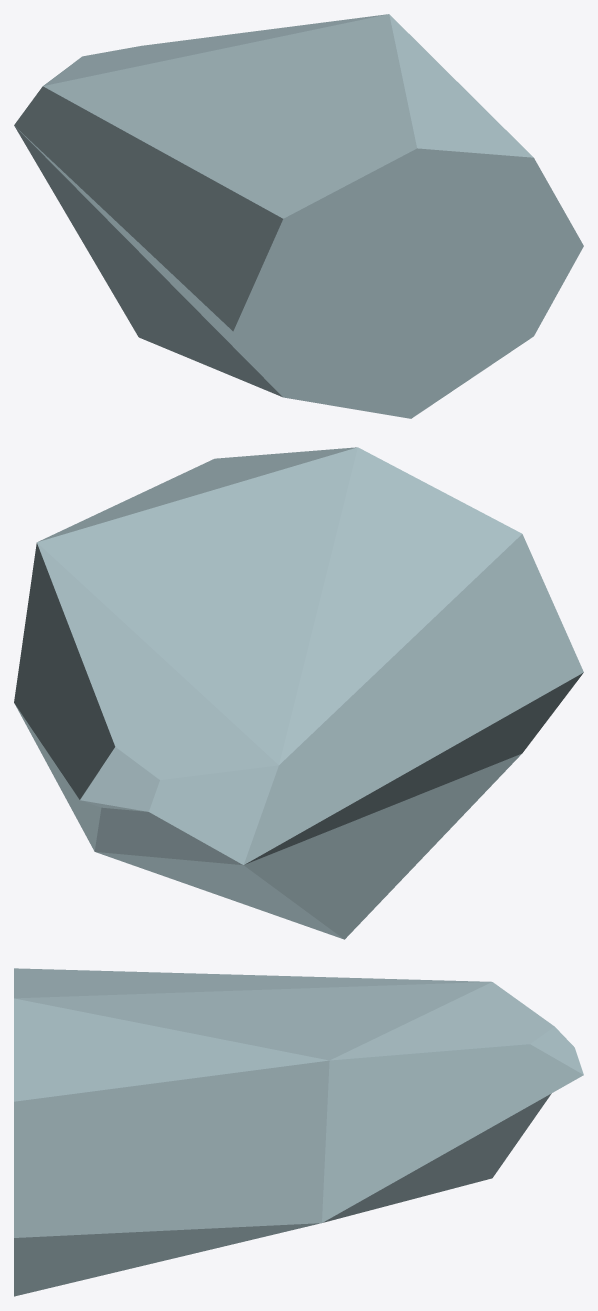
Rendered from ice_share_icerock_1.FBX.
3 renders of one model, top to bottom at view 1: azimuth 30°, elevation 25°; view 2: azimuth 150°, elevation 25°; view 3: azimuth 270°, elevation 25°, orthographic. The views are drawn at different scales.
Visible parts, largest first — view 1: winter_cube_1; view 2: winter_cube_1; view 3: winter_cube_1.
Part boxes in pixels (x1,y1,x2,y2): winter_cube_1: (14, 14, 583, 418); winter_cube_1: (14, 447, 583, 939); winter_cube_1: (14, 968, 583, 1296).
Bounding box in the file's own units: 109 × 80.25 × 141.
